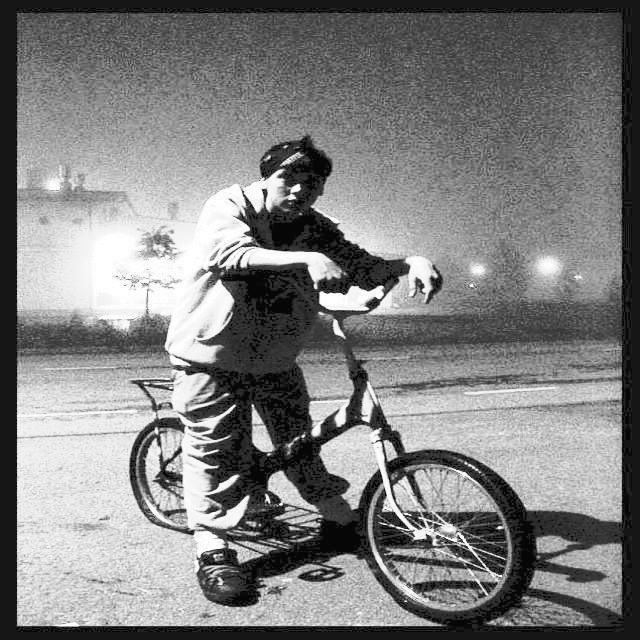Bicycle: (118, 350, 564, 617)
